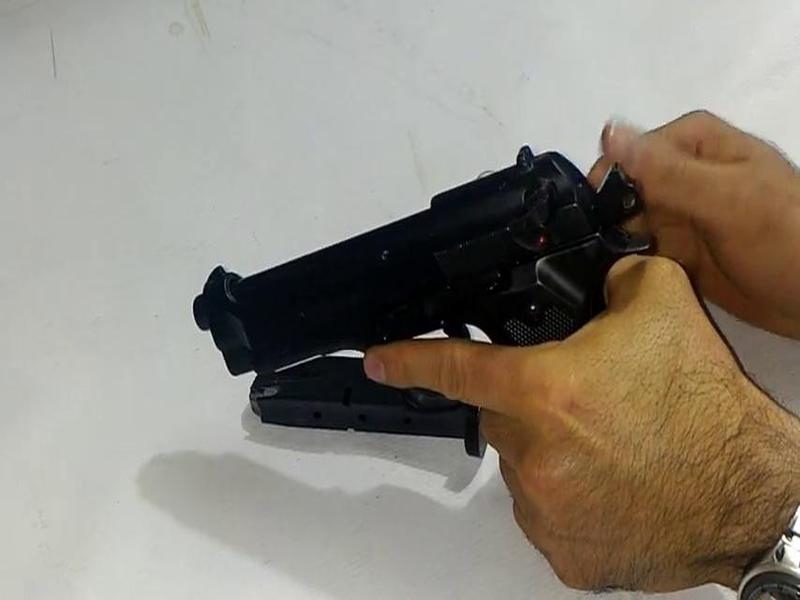Pistola: (127, 118, 654, 484)
